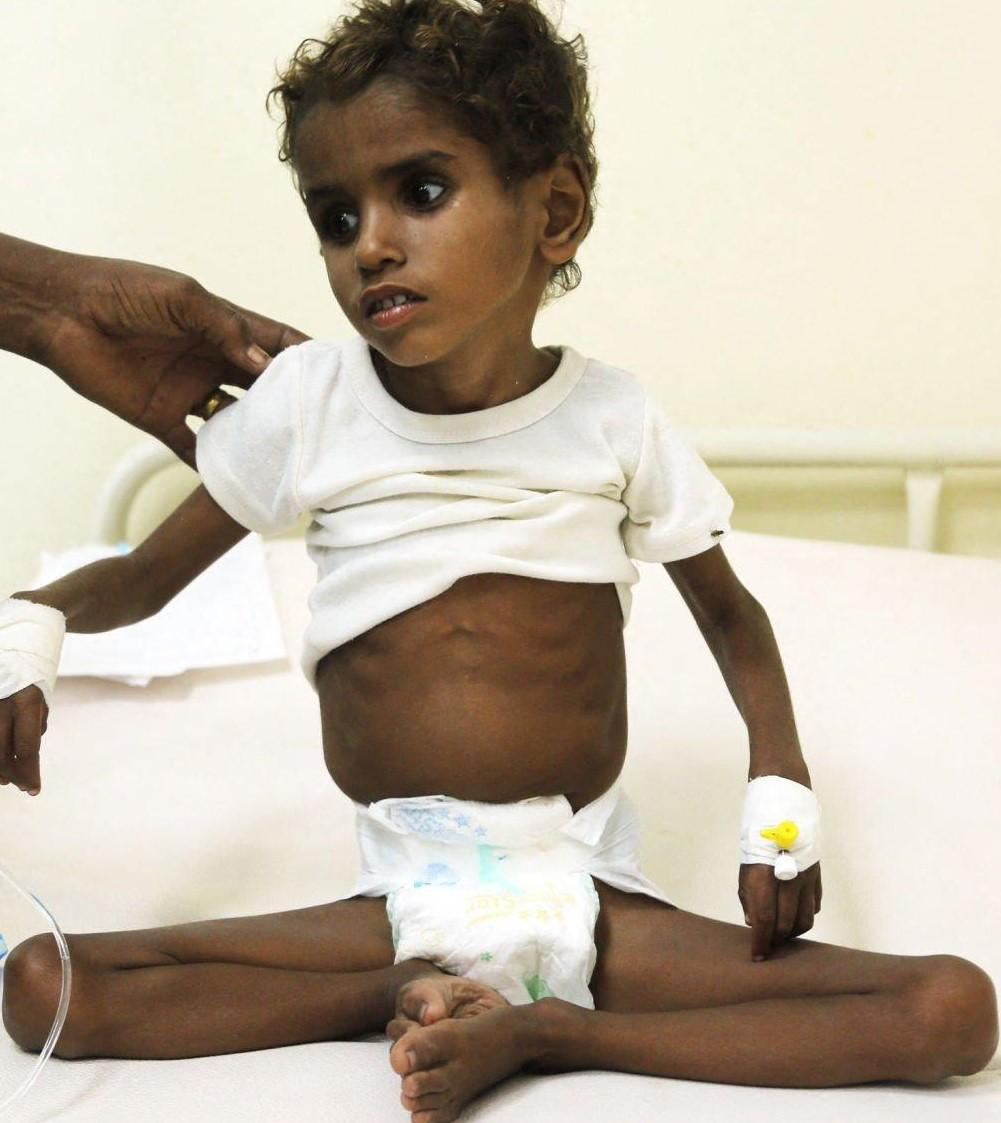Stunting: (300, 90, 683, 430)
